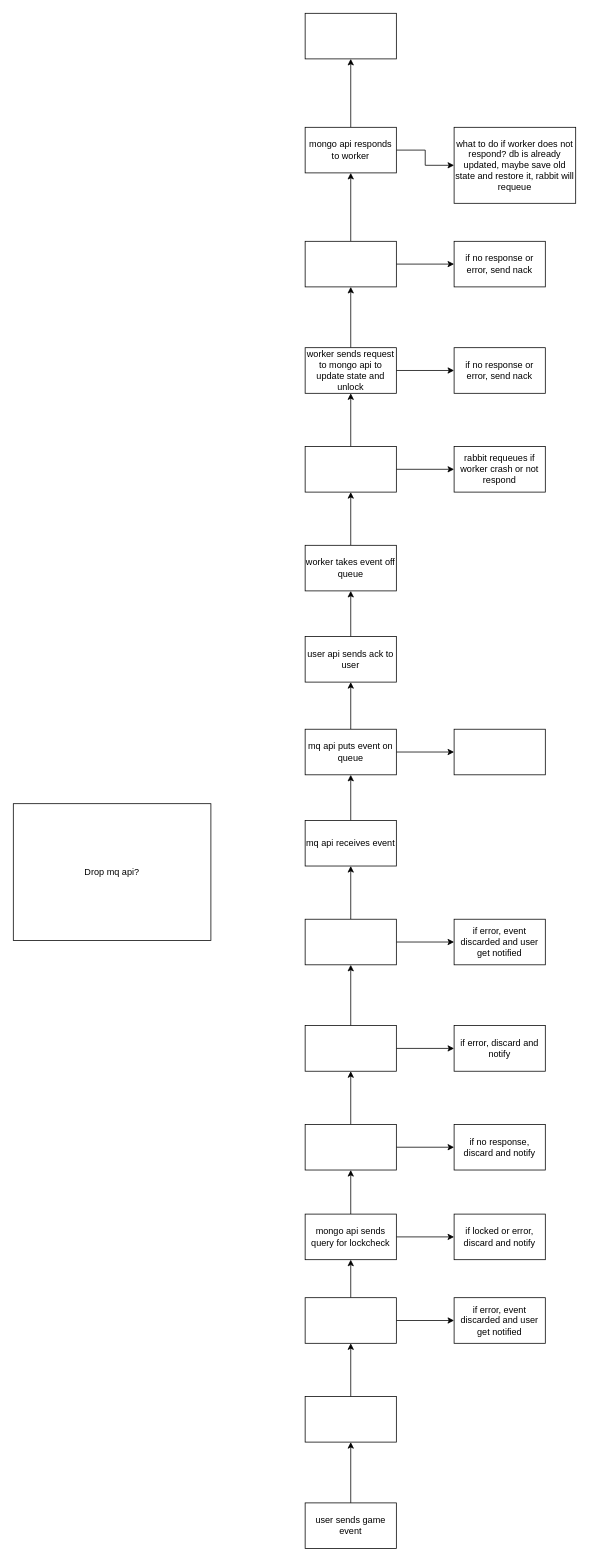
Image size: 589x1562. Some labels were removed from this diagram. The box of each missing label's shape, as (x1, y1, x2, y2) in pixels:
if rabbit cannot take event, discard and notify: (453, 728, 545, 775)
mongo api sends query to mongodb to lock: (304, 1025, 396, 1071)
mongo api sends update query: (304, 241, 396, 287)
user api receives event: (304, 1396, 396, 1442)
user api sends event to mq api: (304, 918, 396, 965)
user api sends lock request to mongo api: (304, 1124, 396, 1170)
user api sends request to mongo api to check lock: (304, 1297, 396, 1343)
worker acks to rabbit and rabbit drops event as processed: (304, 13, 396, 59)
worker processes event: (304, 446, 396, 492)
